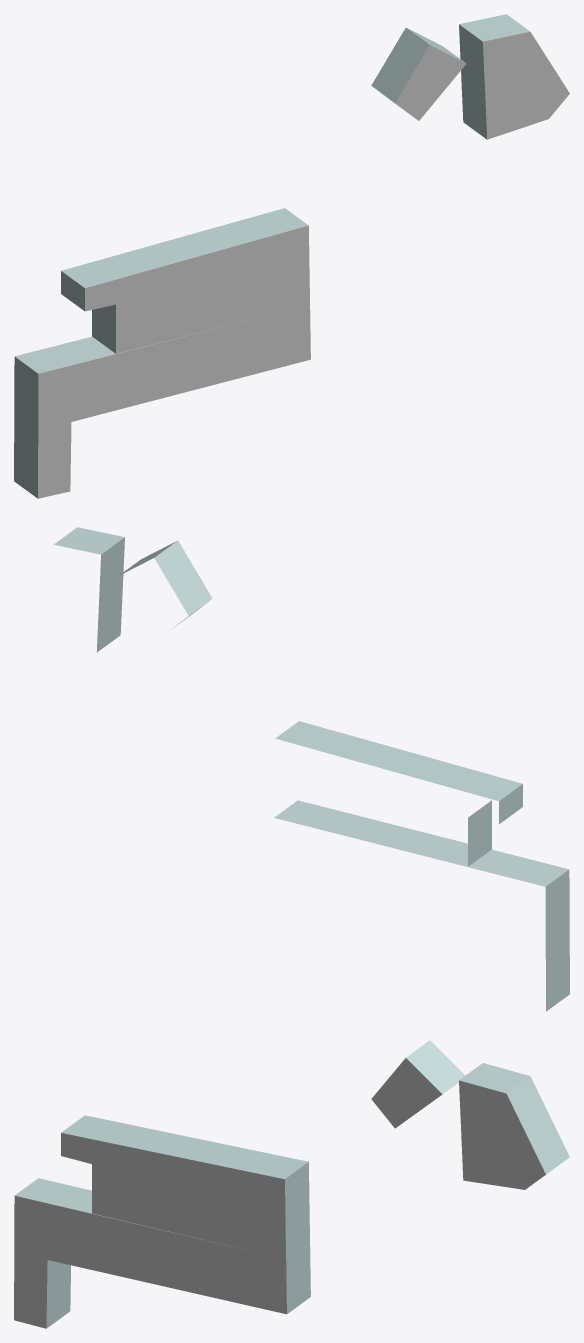
The picture shows the model from 3 angles, top to bottom: view 1: azimuth 30°, elevation 25°; view 2: azimuth 150°, elevation 25°; view 3: azimuth 330°, elevation 25°; orthographic projection.
Visible parts, largest first — view 1: 0_1_2_1_3_1_2_1_2; view 2: 0_1_2_1_3_1_2_1_2; view 3: 0_1_2_1_3_1_2_1_2.
Part boxes in pixels (bbox=[...]): 0_1_2_1_3_1_2_1_2: bbox=[14, 14, 569, 498]; 0_1_2_1_3_1_2_1_2: bbox=[54, 527, 569, 1011]; 0_1_2_1_3_1_2_1_2: bbox=[14, 1040, 569, 1328].
Size of the model in its own units: 38.49 by 24.81 by 3.
